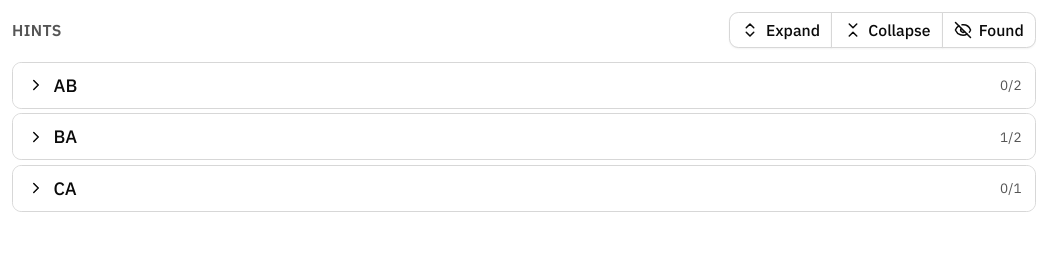
Test: HintsList › found words tracking › only filters hints of matching length, not all hints
What coordinates should you click on to do the following:
click the button "BA 1/2"
I would click on:
 (36, 136)
Its box is [13, 114, 1035, 159].
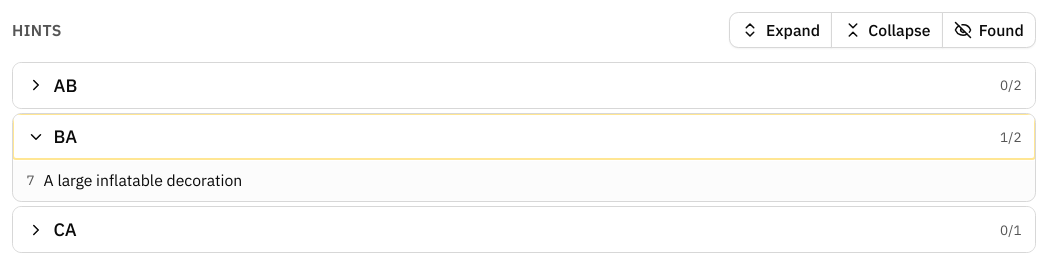
expect the text "A large inflatable decoration" is shown: met, box [44, 169, 242, 192]
